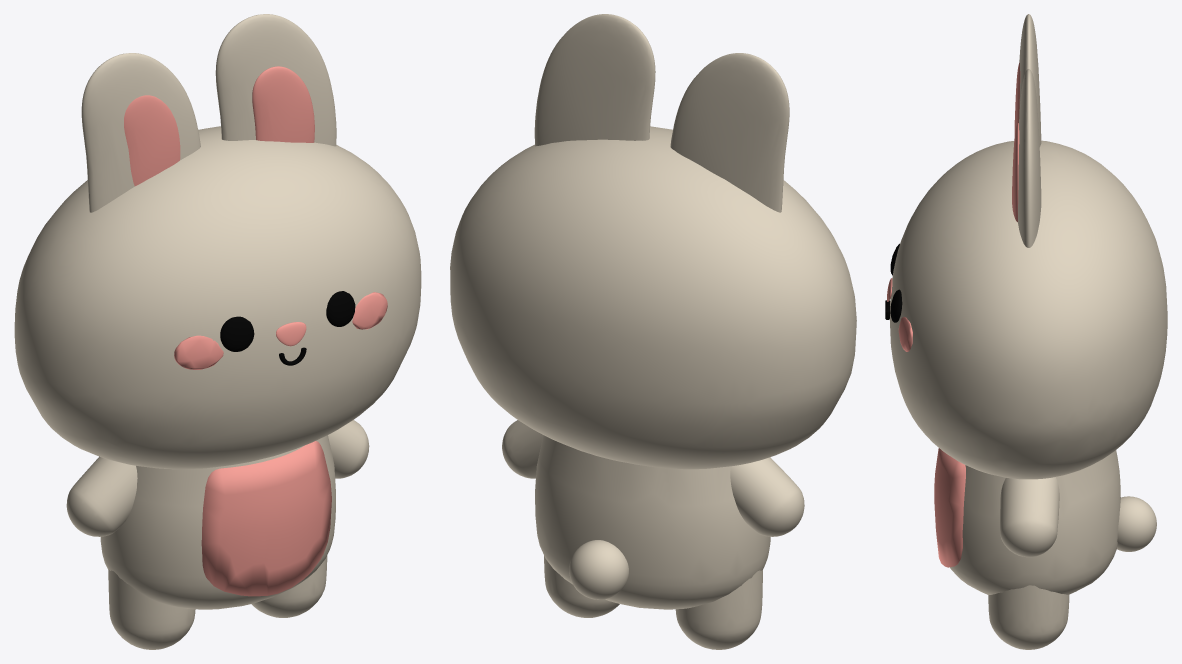
The model's file is rabbit.glb.
3 renders of one model, left to right at view 1: azimuth 30°, elevation 25°; view 2: azimuth 150°, elevation 25°; view 3: azimuth 270°, elevation 25°, orthographic. The views are drawn at different scales.
Parts seen in each view (by area): view 1: head_mesh, belly_mesh, body_mesh, earL_outer_mesh, earR_outer_mesh, arms_mesh, legs_mesh, earR_inner_mesh, earL_inner_mesh, cheeks_mesh, eyes_mesh; view 2: head_mesh, body_mesh, earL_outer_mesh, earR_outer_mesh, arms_mesh, legs_mesh, tail_mesh; view 3: head_mesh, body_mesh, arms_mesh, legs_mesh, earR_outer_mesh, belly_mesh, tail_mesh, earL_outer_mesh, earR_inner_mesh, eyes_mesh.
Part boxes in pixels (x1,y1,x2,y2): head_mesh: [14, 126, 421, 469]; belly_mesh: [201, 441, 331, 596]; body_mesh: [100, 435, 335, 609]; earL_outer_mesh: [81, 53, 200, 212]; earR_outer_mesh: [215, 14, 336, 146]; arms_mesh: [66, 420, 369, 536]; legs_mesh: [108, 555, 327, 649]; earR_inner_mesh: [252, 66, 314, 142]; earL_inner_mesh: [124, 95, 180, 186]; cheeks_mesh: [174, 292, 387, 369]; eyes_mesh: [220, 291, 355, 351]; head_mesh: [450, 126, 856, 469]; body_mesh: [535, 435, 770, 609]; earL_outer_mesh: [670, 53, 789, 212]; earR_outer_mesh: [534, 14, 655, 146]; arms_mesh: [502, 420, 804, 536]; legs_mesh: [544, 555, 762, 649]; tail_mesh: [569, 540, 628, 599]; head_mesh: [889, 140, 1167, 479]; body_mesh: [950, 450, 1120, 594]; arms_mesh: [1000, 477, 1059, 557]; legs_mesh: [988, 585, 1069, 649]; earR_outer_mesh: [1018, 69, 1041, 247]; belly_mesh: [934, 448, 965, 567]; tail_mesh: [1117, 496, 1156, 551]; earL_outer_mesh: [1019, 14, 1041, 146]; earR_inner_mesh: [1012, 123, 1019, 222]; eyes_mesh: [890, 243, 902, 322].
Size of the model in its own units: 4.6 by 7.03 by 3.21.
